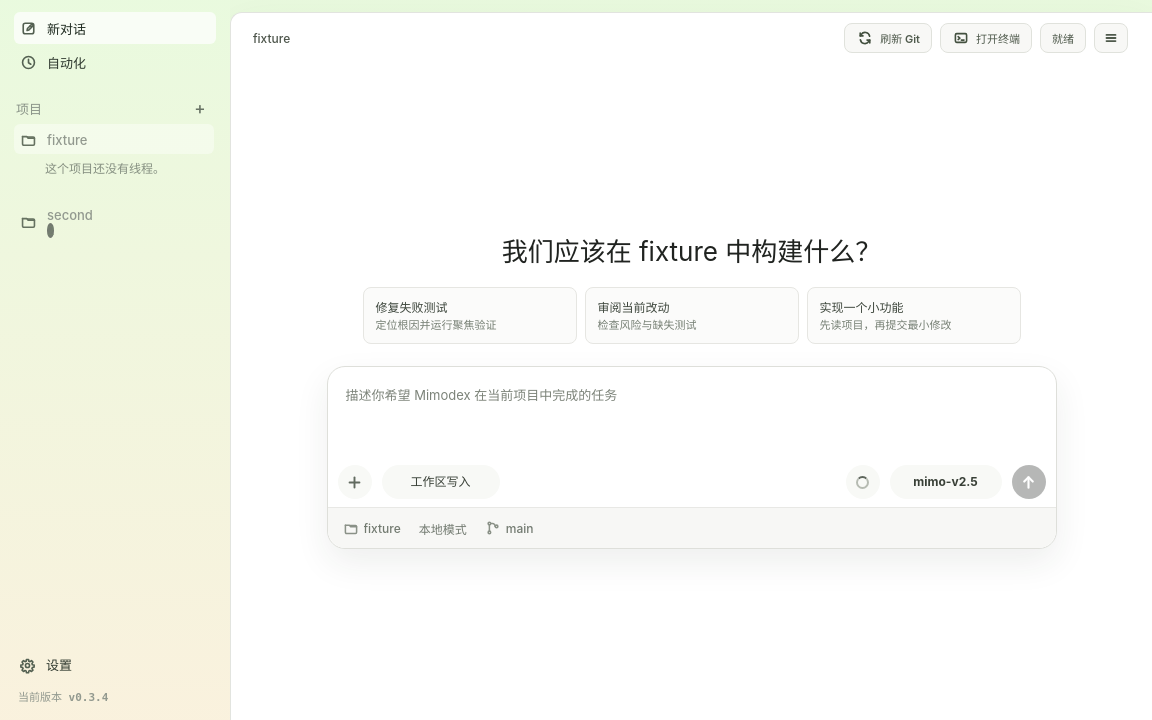
Mimodex 桌面壳 › 切换项目时保持项目列表顺序不变
Click the button titled "D:\\projects\\second": (114, 222) [14, 201, 214, 242]
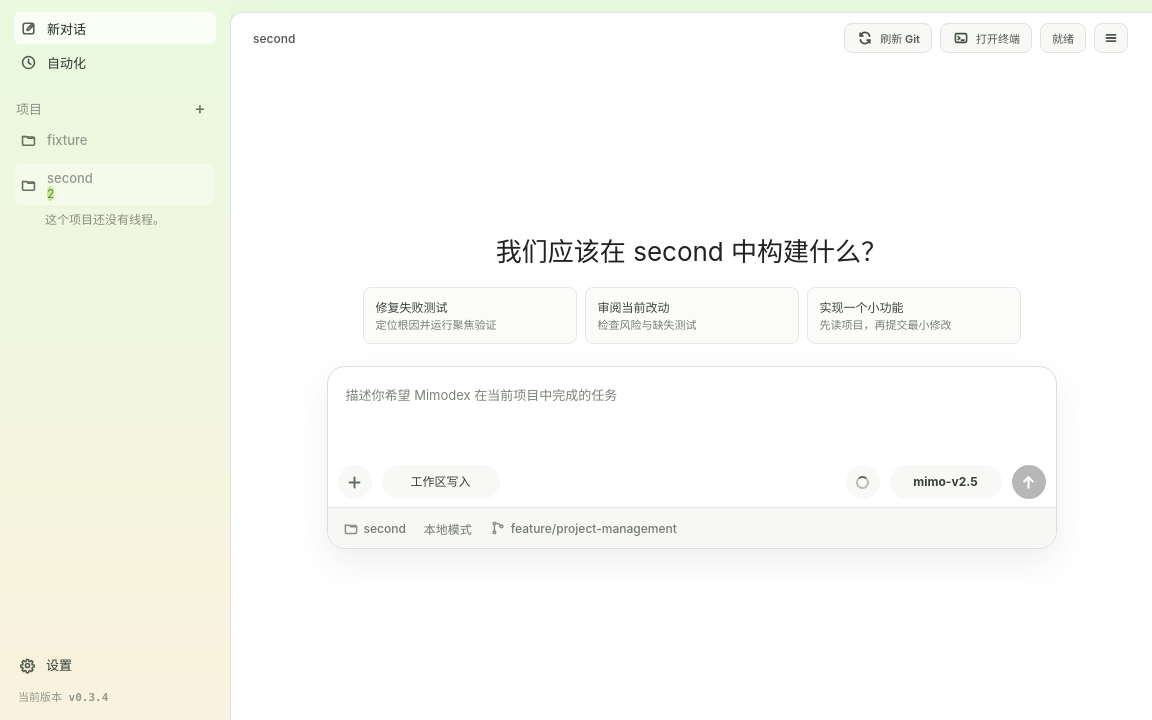
Expected: the heading "second" is shown, [253, 30, 295, 46]
